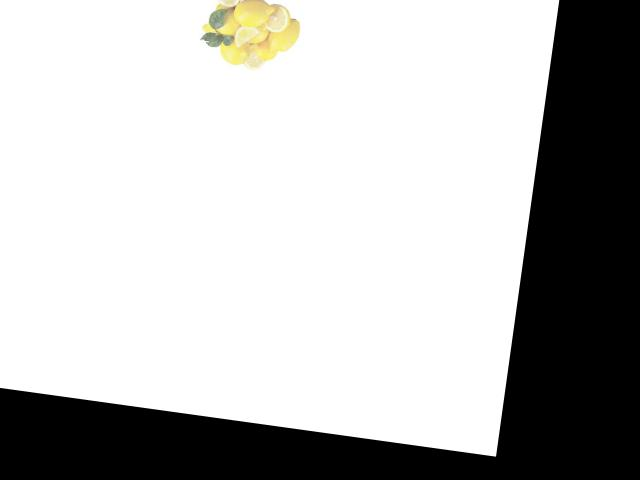lemon: (209, 2, 246, 38)
